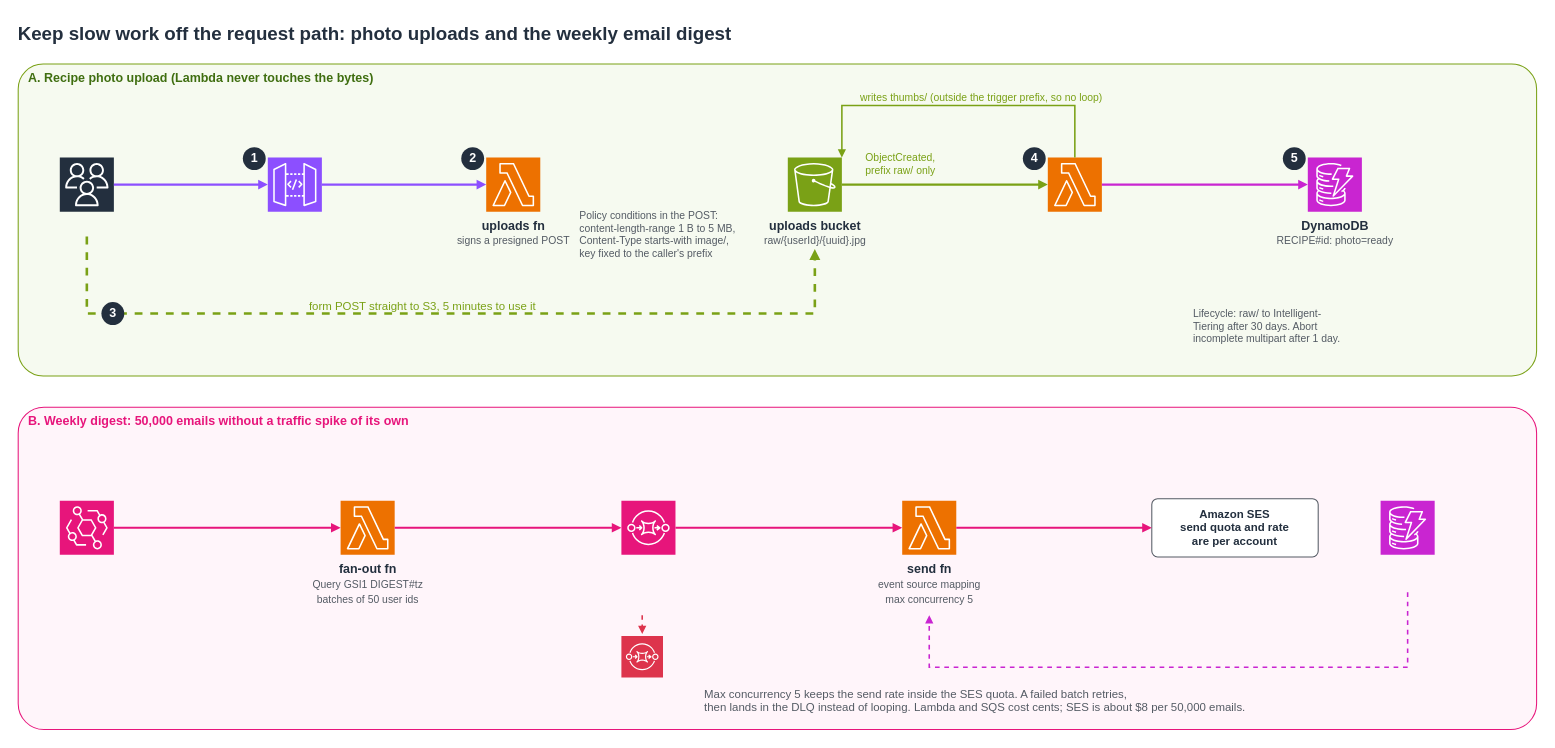
The diagram is 1555 pixels wide and 748 high, and some of its shapes have lost their labels. Here are the shapes that lost their labels. From the top down, the centre of each, then its label:
At point (86, 184): "Browser".
At point (294, 184): "POST /api/uploads JWT required".
At point (1074, 184): "thumbnail fn arm64, 1,024 MB reserved conc. 20".
At point (86, 527): "EventBridge Scheduler cron(0 17 ? * SUN *) one schedule per time zone".
At point (647, 527): "digest queue visibility 2 min maxReceiveCount 3".
At point (1407, 527): "DynamoDB reads plans".
At point (641, 656): "DLQ alarm when > 0".
